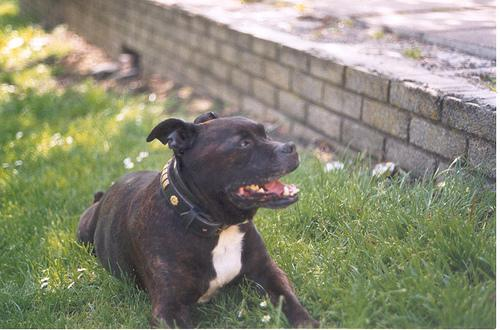dog-staffordshire_bull_terrier: (144, 110, 299, 208)
